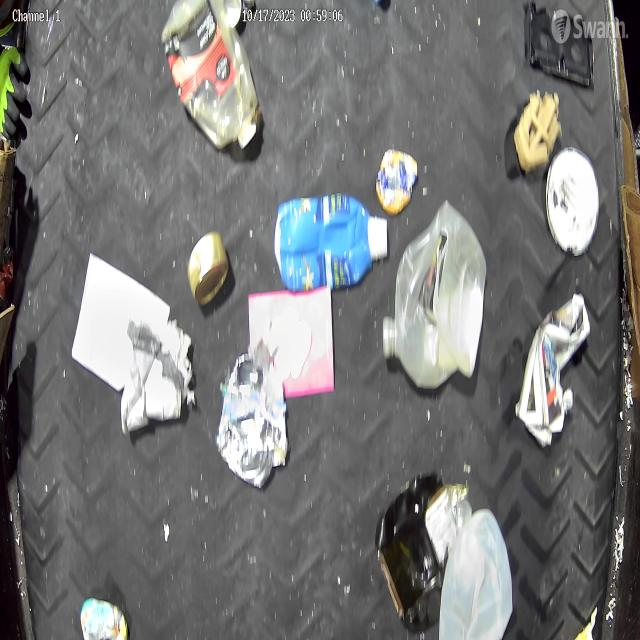can: (186, 230, 228, 308)
milk_jug: (383, 197, 486, 388), (440, 511, 512, 640)
non_white_jug: (276, 193, 388, 291)
plastic_bottle: (160, 2, 261, 150)
